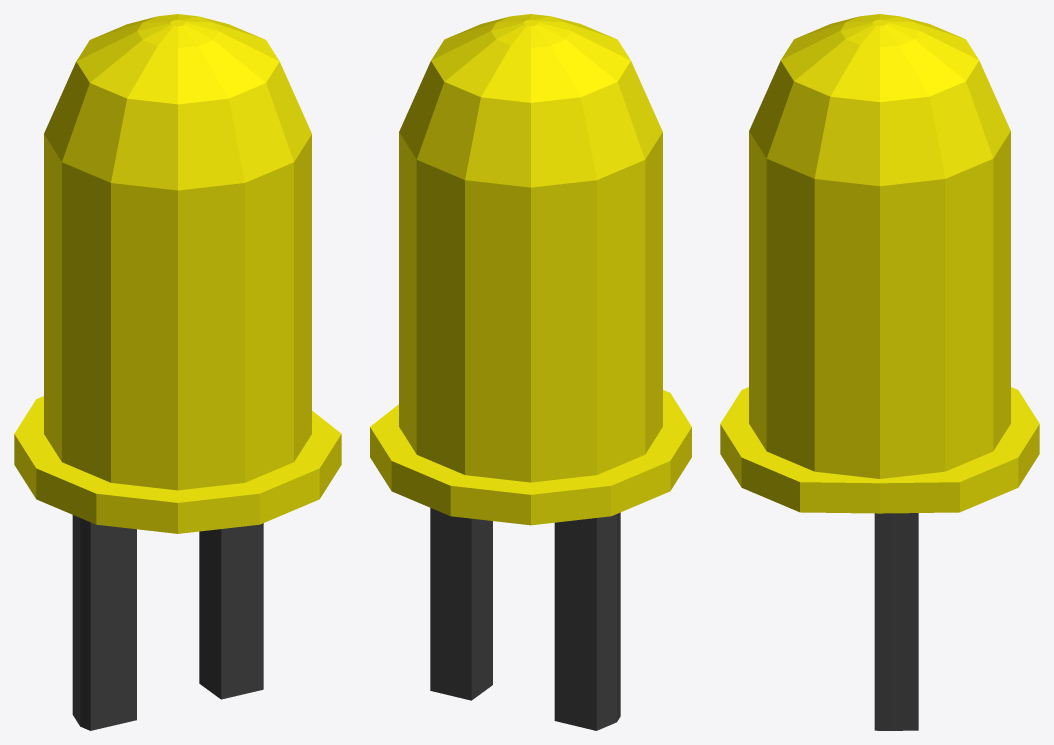
File: YellowLED.fbx
3 renders of one model, left to right at view 1: azimuth 30°, elevation 25°; view 2: azimuth 150°, elevation 25°; view 3: azimuth 270°, elevation 25°, orthographic. The views are drawn at different scales.
Visible parts, largest first — view 1: Cylinder; view 2: Cylinder; view 3: Cylinder.
Part boxes in pixels (x1,y1,x2,y2): Cylinder: (14,14,341,730); Cylinder: (370,14,691,730); Cylinder: (720,14,1039,730).
Bounding box in the file's own units: 230 × 563 × 244.
